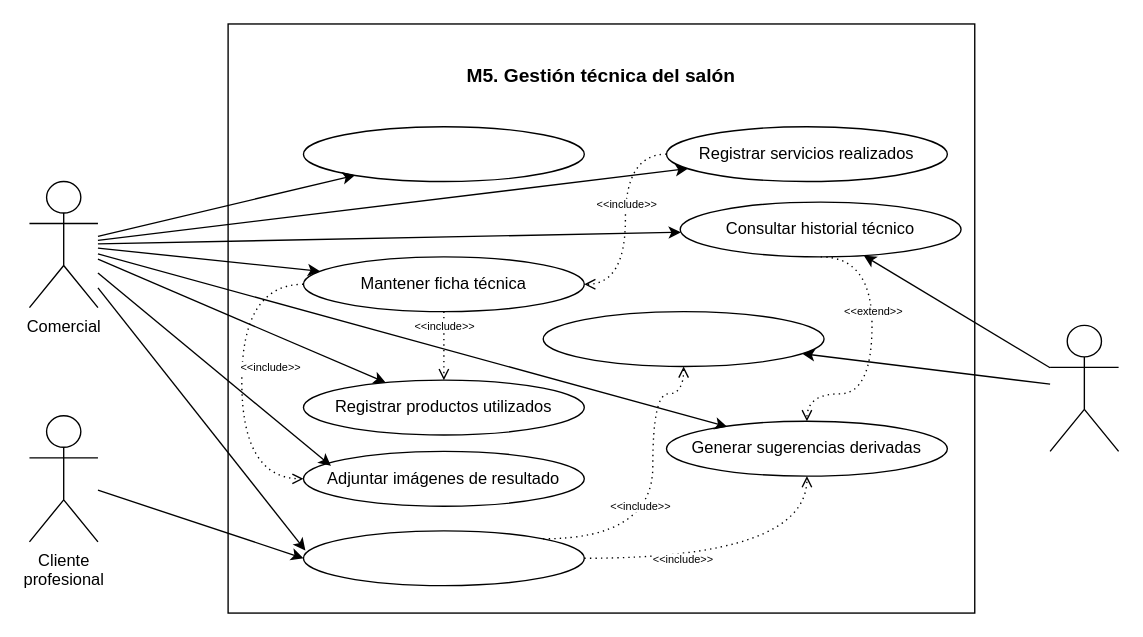
This 1143x637 diagram has some shape labels left out. The centre of each missing label's shape, as x and y in pixels:
"Admin" belongs at point 1084,387.
"Gestionar fichas del salón" belongs at point 443,153.
"Gestionar plantillas reutilizables" belongs at point 683,338.
"Preparar borrador técnico" belongs at point 443,558.
